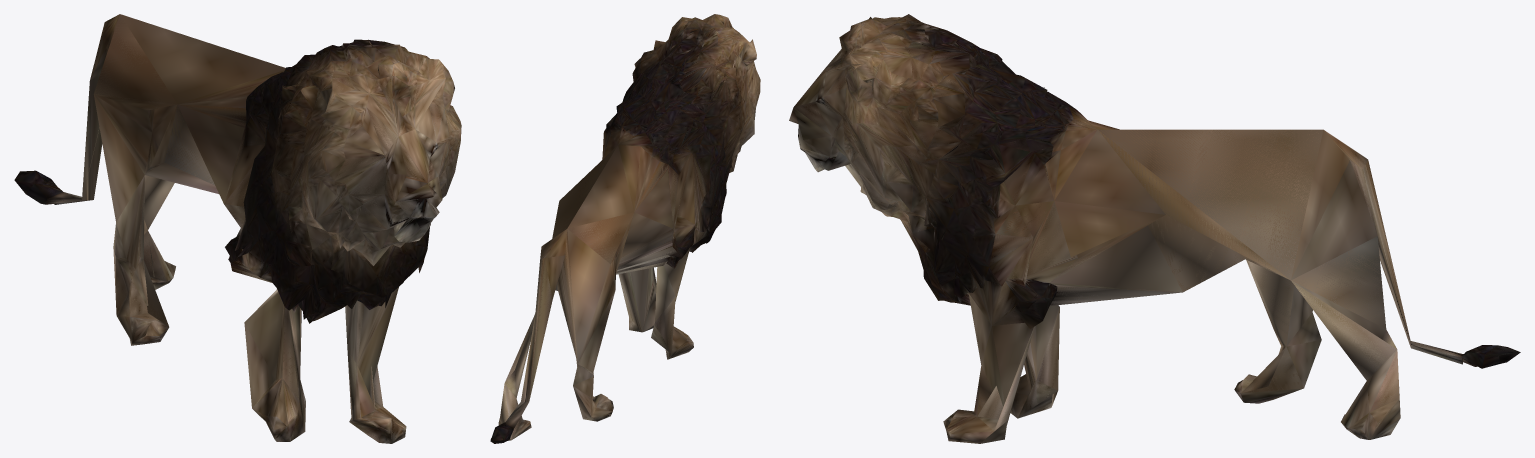
File: loewe2.glb
3 renders of one model, left to right at view 1: azimuth 30°, elevation 25°; view 2: azimuth 150°, elevation 25°; view 3: azimuth 270°, elevation 25°, orthographic. The views are drawn at different scales.
Bounding box in the file's own units: 0.4604 × 1.15 × 1.89.
1 material, 1 textured.
